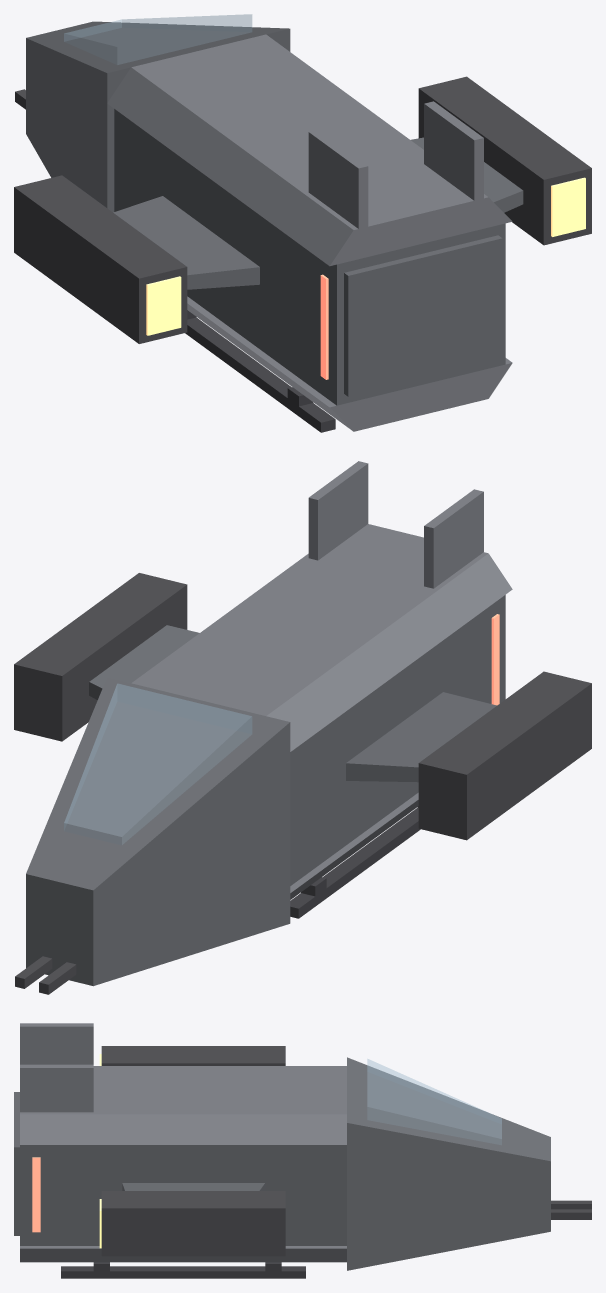
Rendered from ship_XS_DROPSHIP.glb.
3 renders of one model, top to bottom at view 1: azimuth 30°, elevation 25°; view 2: azimuth 150°, elevation 25°; view 3: azimuth 270°, elevation 25°, orthographic. The views are drawn at different scales.
Visible parts, largest first — view 1: XS_DROPSHIP_Armor, XS_DROPSHIP_Hull-col, XS_DROPSHIP_Engines, XS_DROPSHIP_Ramp-col, XS_DROPSHIP_Glass-col, XS_DROPSHIP_EngineGlow, XS_DROPSHIP_Trim, XS_DROPSHIP_Lights; view 2: XS_DROPSHIP_Hull-col, XS_DROPSHIP_Armor, XS_DROPSHIP_Engines, XS_DROPSHIP_Glass-col, XS_DROPSHIP_Trim, XS_DROPSHIP_Lights; view 3: XS_DROPSHIP_Hull-col, XS_DROPSHIP_Armor, XS_DROPSHIP_Engines, XS_DROPSHIP_Glass-col, XS_DROPSHIP_Trim, XS_DROPSHIP_Ramp-col, XS_DROPSHIP_Lights.
Part boxes in pixels (bbox=[...]): XS_DROPSHIP_Armor: bbox=[107, 34, 512, 431]; XS_DROPSHIP_Hull-col: bbox=[26, 21, 523, 405]; XS_DROPSHIP_Engines: bbox=[14, 76, 591, 343]; XS_DROPSHIP_Ramp-col: bbox=[344, 235, 502, 396]; XS_DROPSHIP_Glass-col: bbox=[64, 14, 251, 64]; XS_DROPSHIP_EngineGlow: bbox=[146, 177, 585, 335]; XS_DROPSHIP_Trim: bbox=[185, 310, 335, 432]; XS_DROPSHIP_Lights: bbox=[320, 274, 328, 379]; XS_DROPSHIP_Hull-col: bbox=[26, 595, 505, 986]; XS_DROPSHIP_Armor: bbox=[131, 461, 512, 899]; XS_DROPSHIP_Engines: bbox=[14, 573, 591, 994]; XS_DROPSHIP_Glass-col: bbox=[64, 684, 251, 844]; XS_DROPSHIP_Trim: bbox=[290, 806, 420, 918]; XS_DROPSHIP_Lights: bbox=[491, 614, 499, 705]; XS_DROPSHIP_Hull-col: bbox=[20, 1057, 550, 1270]; XS_DROPSHIP_Armor: bbox=[20, 1023, 346, 1262]; XS_DROPSHIP_Engines: bbox=[101, 1046, 591, 1256]; XS_DROPSHIP_Glass-col: bbox=[367, 1059, 501, 1144]; XS_DROPSHIP_Trim: bbox=[61, 1262, 305, 1278]; XS_DROPSHIP_Ramp-col: bbox=[14, 1092, 19, 1235]; XS_DROPSHIP_Lights: bbox=[32, 1157, 40, 1232].
Size of the model in its own units: 9.4 by 5.6 by 14.15.
